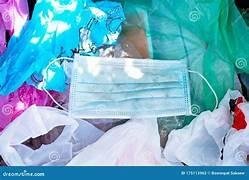Mask: (0, 0, 124, 95), (69, 55, 190, 117), (0, 105, 103, 165), (0, 84, 52, 132), (0, 0, 28, 54), (0, 0, 28, 35), (0, 16, 5, 54)
